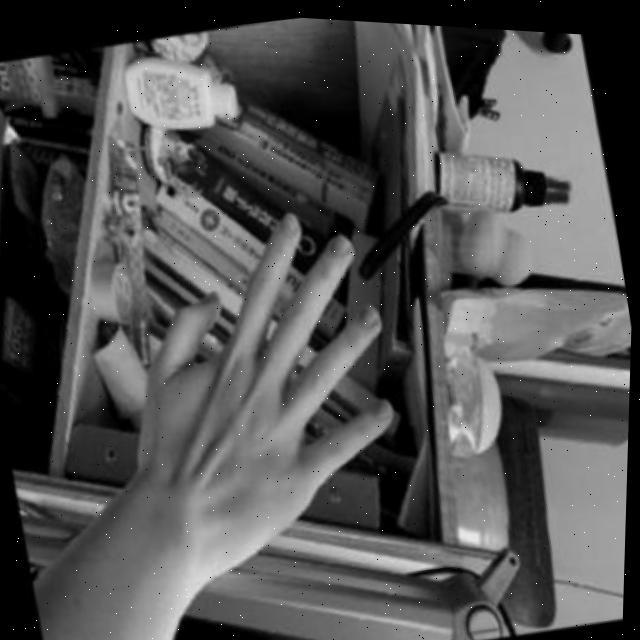no-gloves: (98, 184, 426, 588)
